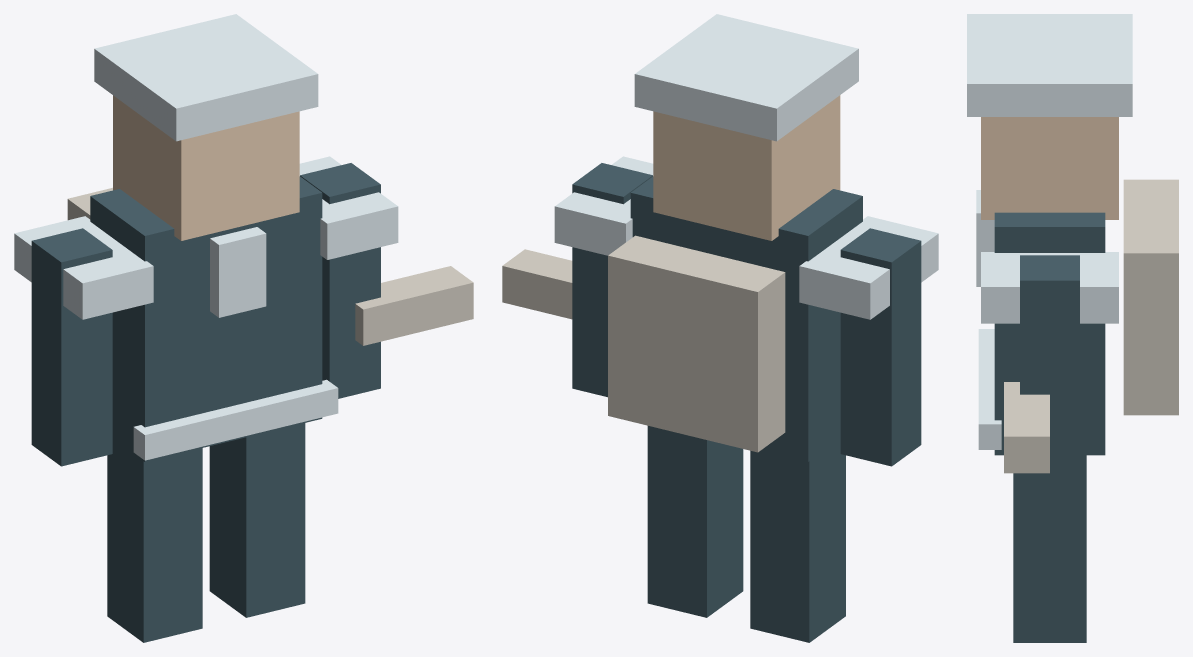
Rendered from 09_tamsin_runeclasp_medic_under_prototype.glb.
3 views of the same model, side by side, from view 1: azimuth 30°, elevation 25°; view 2: azimuth 150°, elevation 25°; view 3: azimuth 270°, elevation 25° (orthographic).
Visible parts, largest first — view 1: Tamsin Runeclasp, Medic under Prototype; view 2: Tamsin Runeclasp, Medic under Prototype; view 3: Tamsin Runeclasp, Medic under Prototype.
Boxes of the visible parts, x1,y1,x2,y2 form: Tamsin Runeclasp, Medic under Prototype: [14, 14, 473, 642]; Tamsin Runeclasp, Medic under Prototype: [502, 14, 938, 642]; Tamsin Runeclasp, Medic under Prototype: [967, 14, 1178, 642].
Bounding box in the file's own units: 1.12 × 1.45 × 0.5031.
